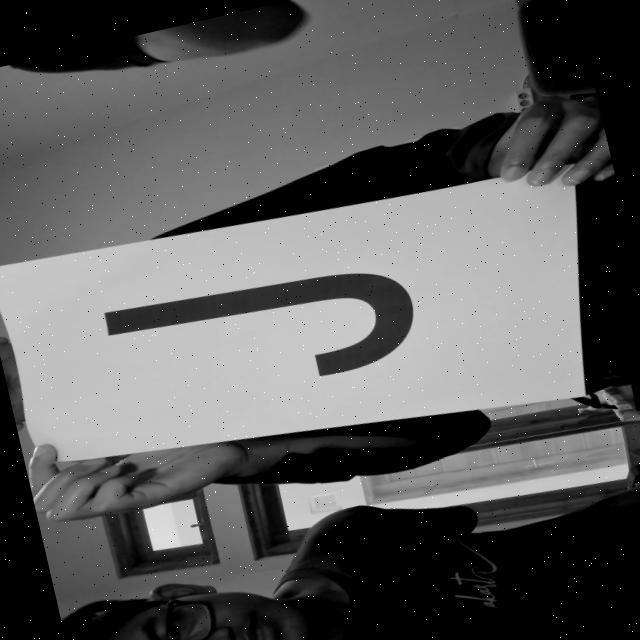j: (87, 228, 448, 432)
